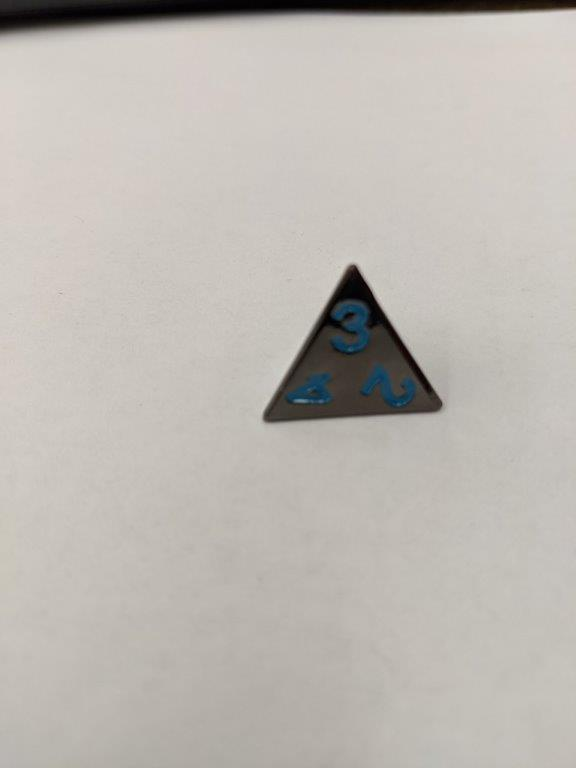d4-3: (259, 261, 446, 427)
